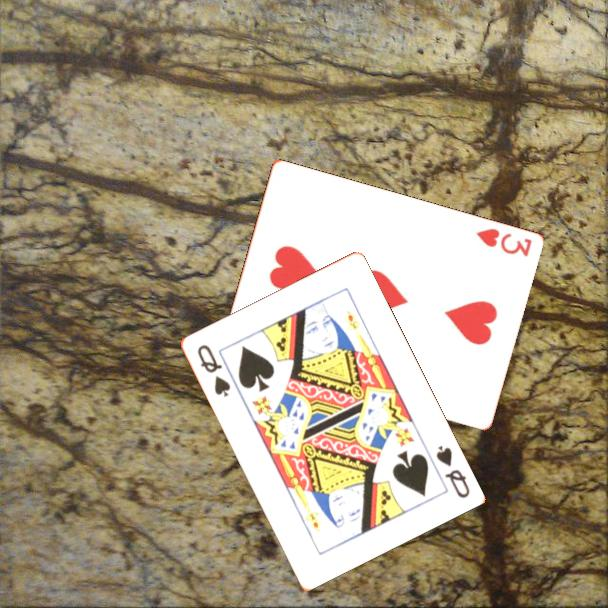h03: (472, 225, 534, 260)
s12: (193, 341, 233, 400), (432, 442, 472, 501)
